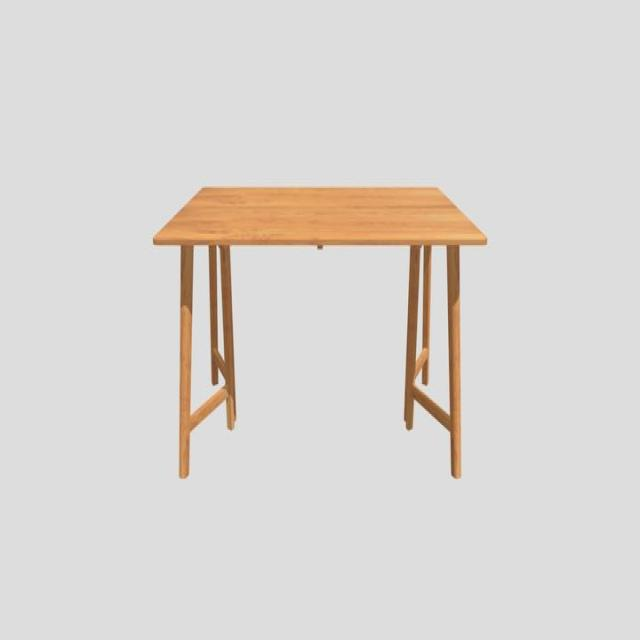table: (153, 182, 488, 478)
